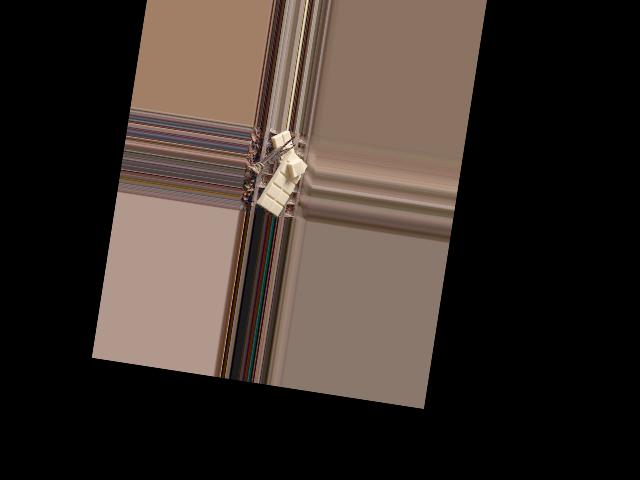chocolate: (256, 145, 308, 218)
